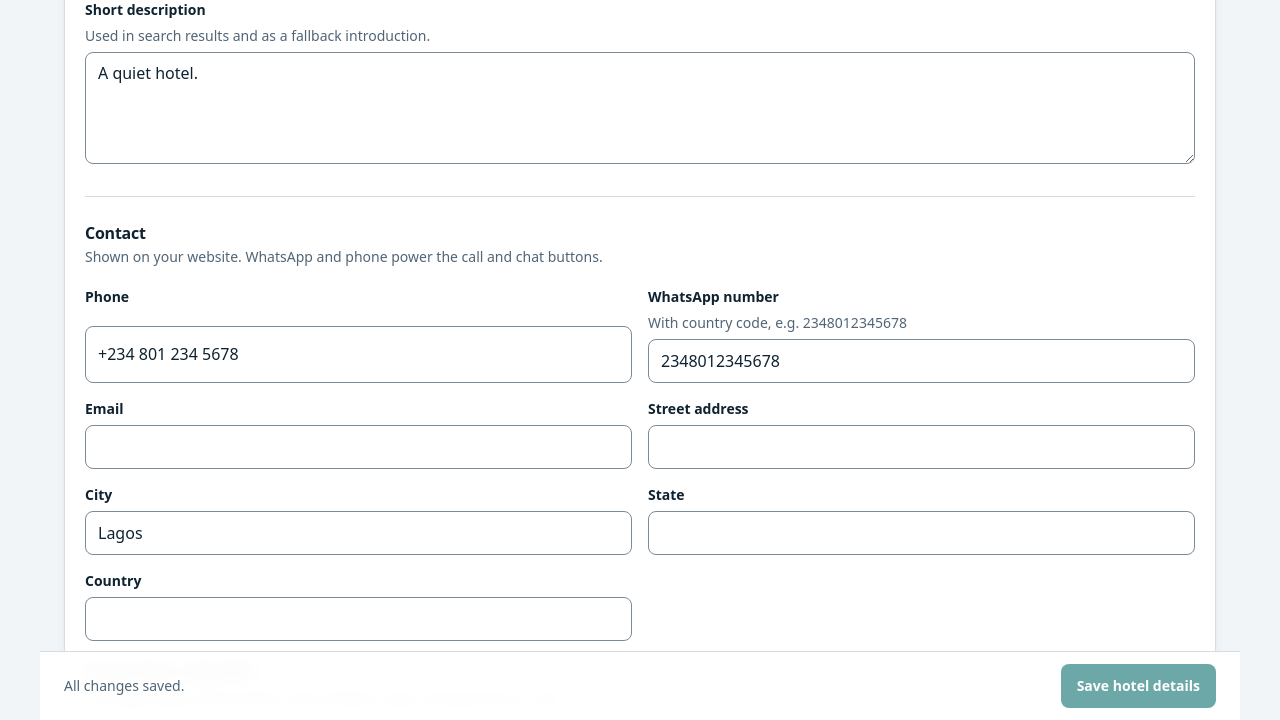
Test: hotel details form › WhatsApp number: shows a clear message and sends nothing
(page scrolled)
Replace the text in the field labelled "WhatsApp number" with "0801234". click: (922, 361)
box: [648, 339, 1195, 383]
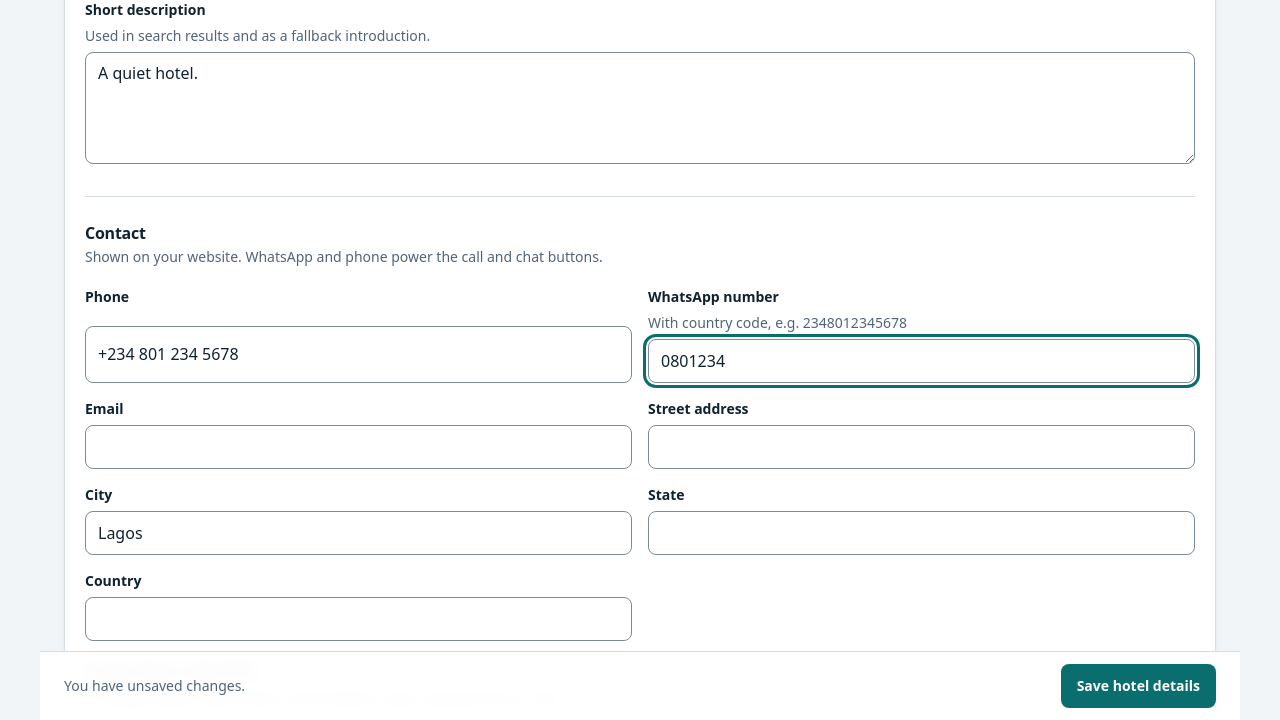
Click the button "Save hotel details". click: (1138, 686)
box: [1061, 664, 1216, 708]
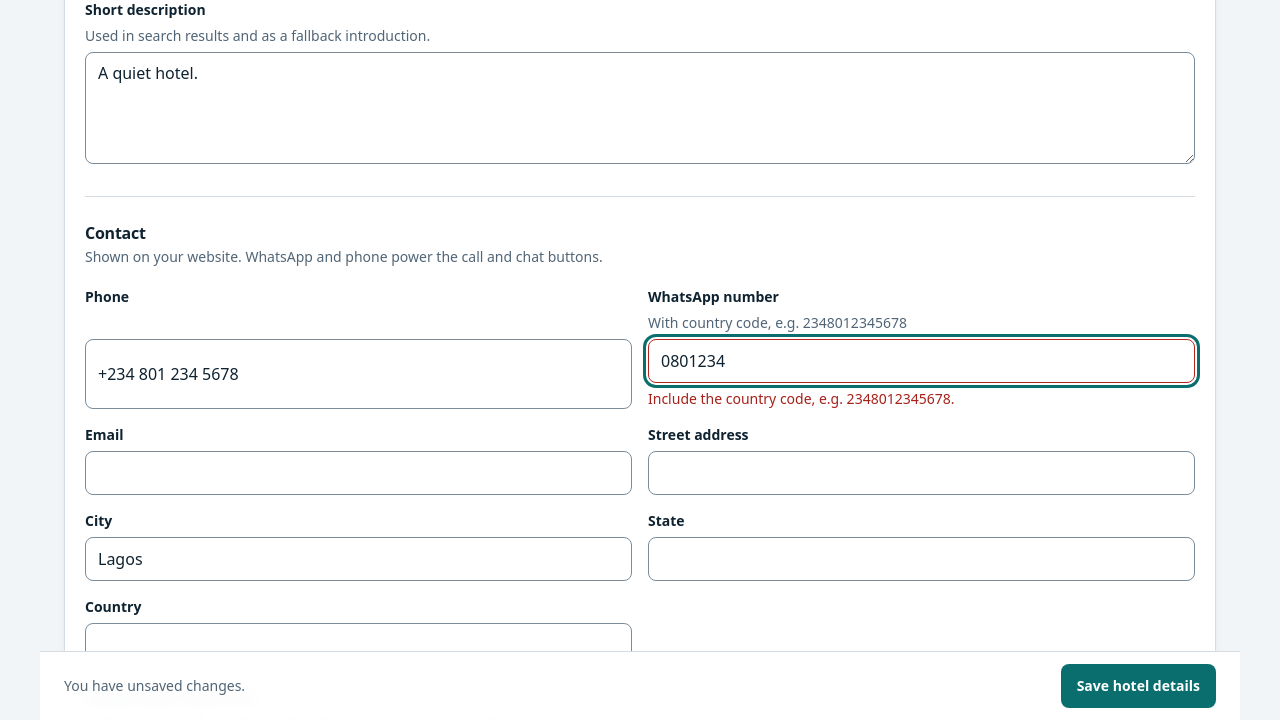
expect the text "Include the country code, e.g. 2348012345678." is shown: met, box [648, 389, 954, 408]
